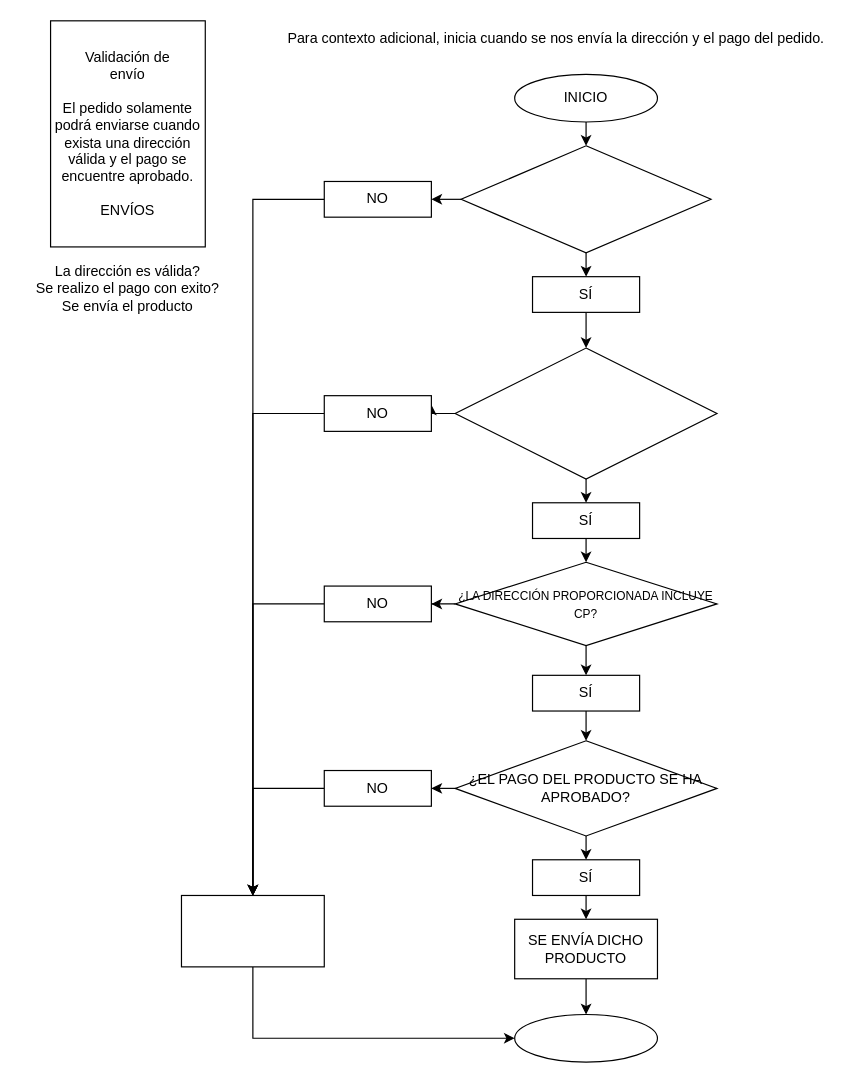
Some shapes in this 856 by 1083 pixel diagram are drawn without their labels. The shapes that lost their labels are listed below. From the top down, each one's centre as x and y in pixels, then its label:
(585,199): ¿LA DIRECCIÓN PROPORCIONADA INCLUYE UNA COLONIA EXISTENTE?
(585,413): ¿LA DIRECCIÓN PROPORCIONADA INCLUYE UNA CALLE EXISTENTE DENTRO DE LA COLONIA?
(252,930): SE CANCELA EL MOVIMIENTO
(585,1037): FIN
